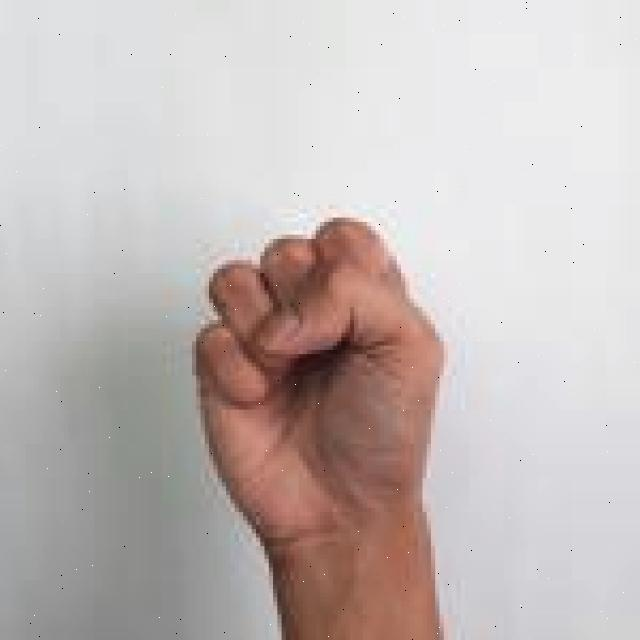S: (190, 208, 451, 640)
